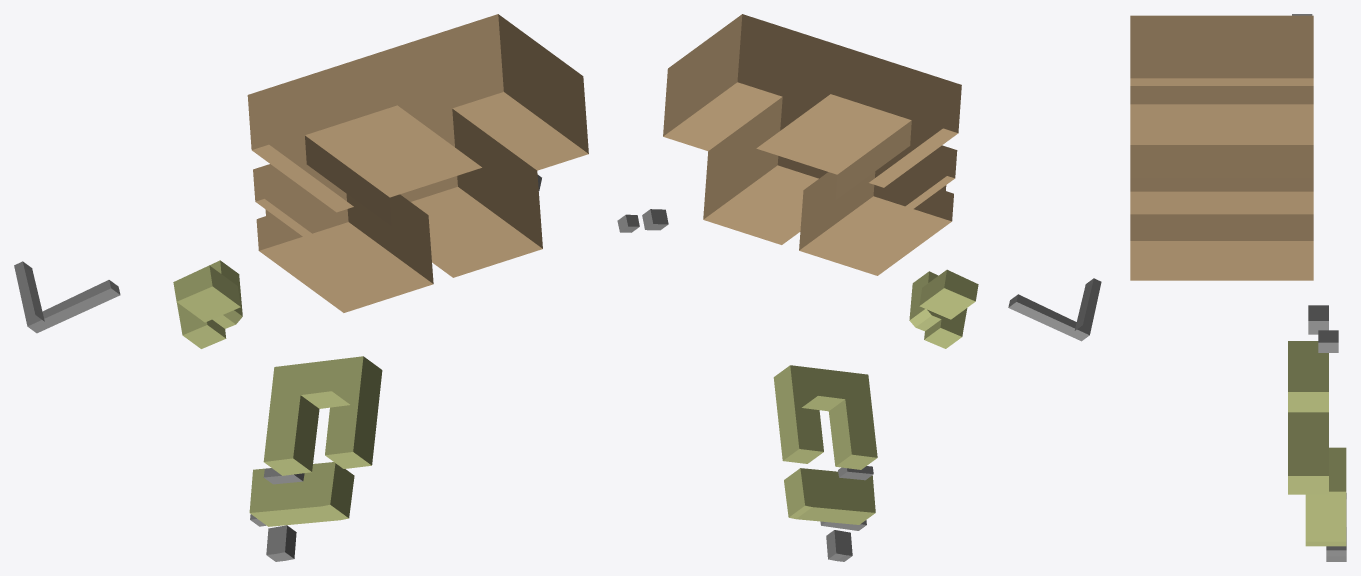
The picture shows the model from 3 angles, left to right: view 1: azimuth 30°, elevation 25°; view 2: azimuth 150°, elevation 25°; view 3: azimuth 270°, elevation 25°; orthographic projection. The views are drawn at different scales.
Parts seen in each view (by area): view 1: 0_1_2_0_1_3_0_3; view 2: 0_1_2_0_1_3_0_3; view 3: 0_1_2_0_1_3_0_3.
Boxes of the visible parts, x1=… form: 0_1_2_0_1_3_0_3: x1=14, y1=14, x2=588, y2=561; 0_1_2_0_1_3_0_3: x1=617, y1=14, x2=1101, y2=561; 0_1_2_0_1_3_0_3: x1=1130, y1=14, x2=1346, y2=561.
Size of the model in its own units: 97.32 by 87.74 by 31.83.
